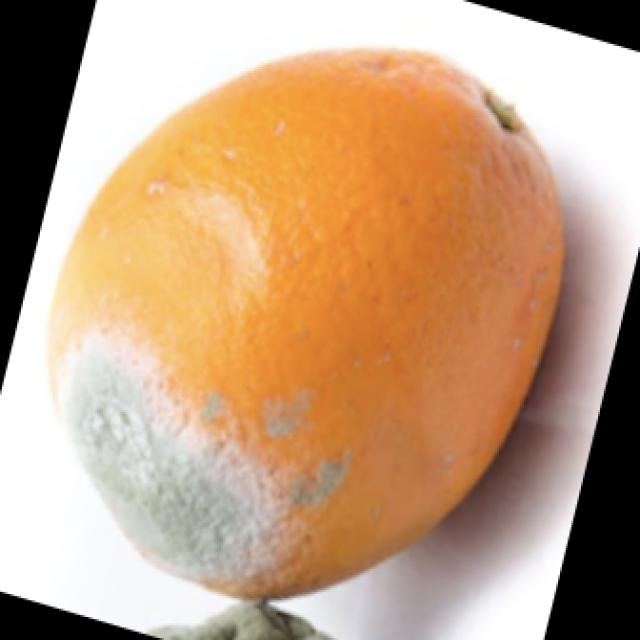sangat_busuk: (145, 600, 346, 638)
sedikit_busuk: (48, 58, 560, 594)
